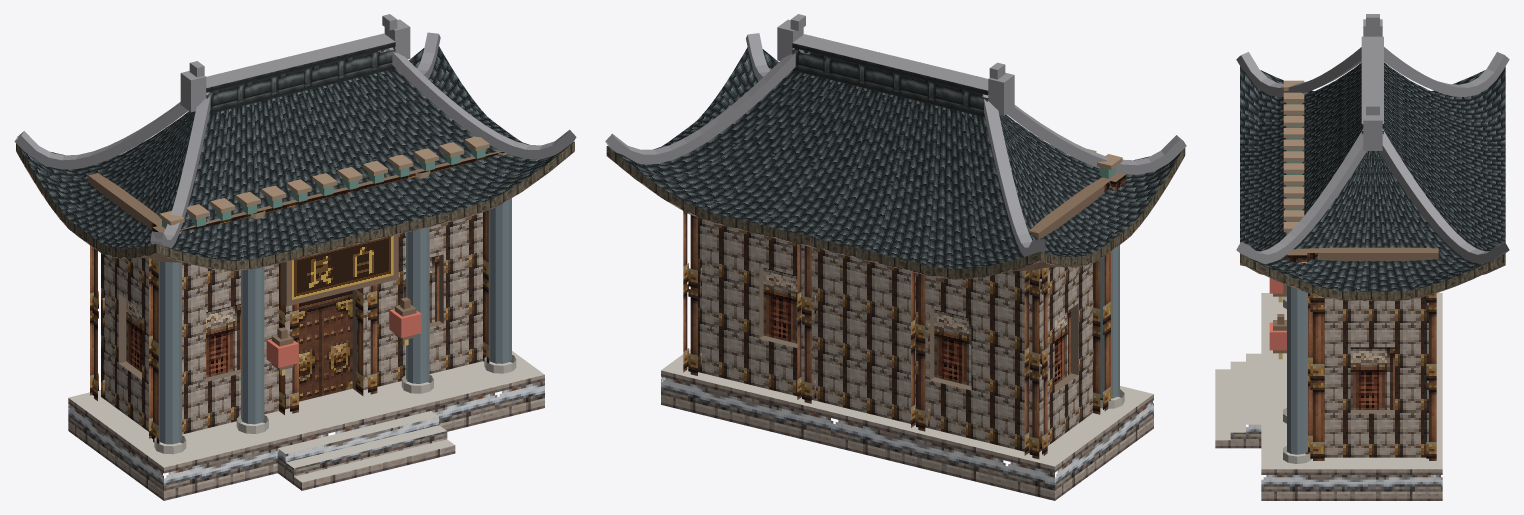
The model's file is g_jangbaek_clay.glb.
3 views of the same model, side by side, from view 1: azimuth 30°, elevation 25°; view 2: azimuth 150°, elevation 25°; view 3: azimuth 270°, elevation 25° (orthographic). The views are drawn at different scales.
Parts seen in each view (by area): view 1: roof, plaster, stone, stonetop, col, ridgeend, post, eave, door, ridge, win, plaque (+7 smaller); view 2: roof, plaster, stone, ridgeend, post, win, eave, stonetop, ridge, col, reveal, wood (+1 smaller); view 3: roof, plaster, ridgeend, stonetop, stone, post, col, woodl, win, eave, wood, lantern (+2 smaller).
Part boxes in pixels (box(x1,y1,x2,y2)): roof: box(19, 46, 574, 260); plaster: box(101, 212, 482, 434); stone: box(68, 375, 544, 500); stonetop: box(68, 351, 544, 482); col: box(158, 198, 511, 444); ridgeend: box(14, 14, 576, 247); post: box(90, 210, 496, 443); eave: box(16, 142, 574, 270); door: box(299, 290, 352, 401); ridge: box(206, 42, 395, 113); win: box(126, 255, 439, 377); plaque: box(292, 235, 393, 299); roof: box(607, 47, 1181, 269); plaster: box(698, 217, 1093, 452); stone: box(661, 370, 1153, 500); ridgeend: box(605, 14, 1186, 256); post: box(683, 211, 1110, 459); win: box(763, 268, 1070, 385); eave: box(606, 146, 1185, 279); stonetop: box(661, 349, 1153, 466); ridge: box(792, 43, 988, 117); col: box(1100, 245, 1119, 398); reveal: box(759, 267, 1078, 392); wood: box(1029, 168, 1125, 239); roof: box(1240, 62, 1505, 291); plaster: box(1324, 296, 1428, 457); ridgeend: box(1236, 14, 1509, 263); stonetop: box(1215, 293, 1442, 469); stone: box(1215, 424, 1442, 500); post: box(1305, 293, 1436, 460); col: box(1287, 285, 1307, 454); woodl: box(1283, 80, 1304, 255); win: box(1350, 347, 1394, 409); eave: box(1240, 254, 1505, 300); wood: box(1273, 92, 1438, 353); lantern: box(1269, 278, 1286, 350).
Bounding box in the file's own units: 67.05 × 55.72 × 42.29.
Materials: 20 (10 with a texture image).
